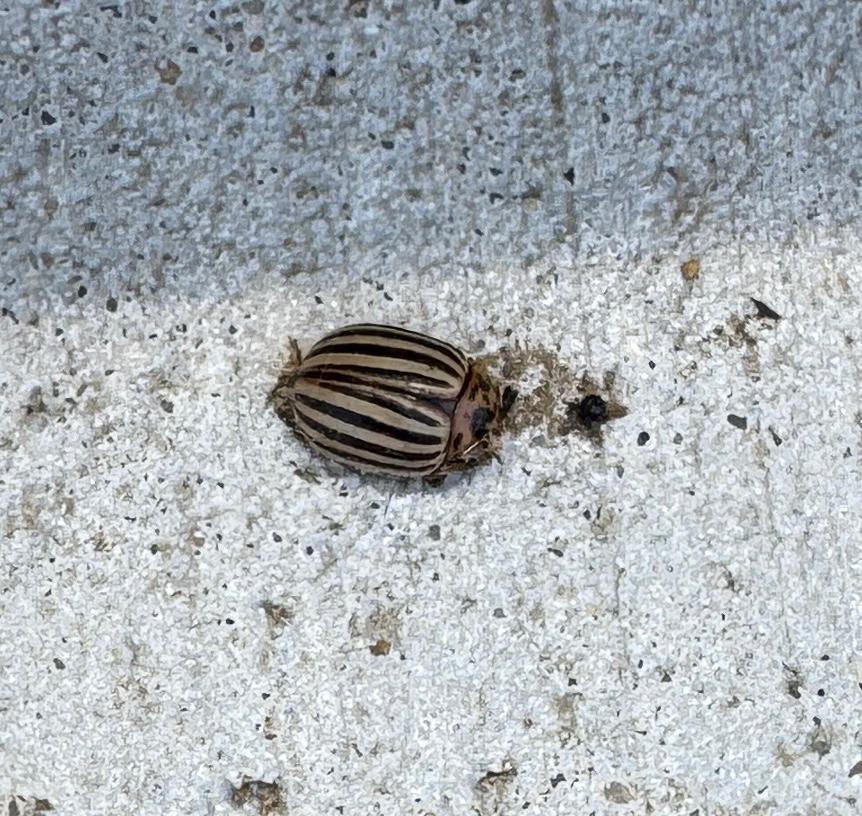potato_beetle: (228, 278, 538, 521)
